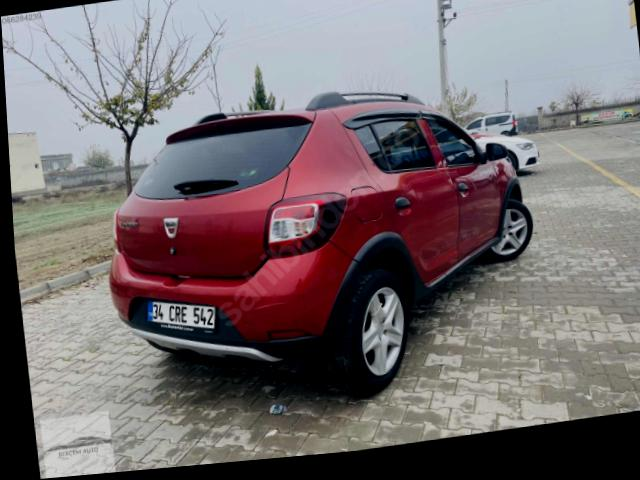plaka: (147, 301, 216, 330)
